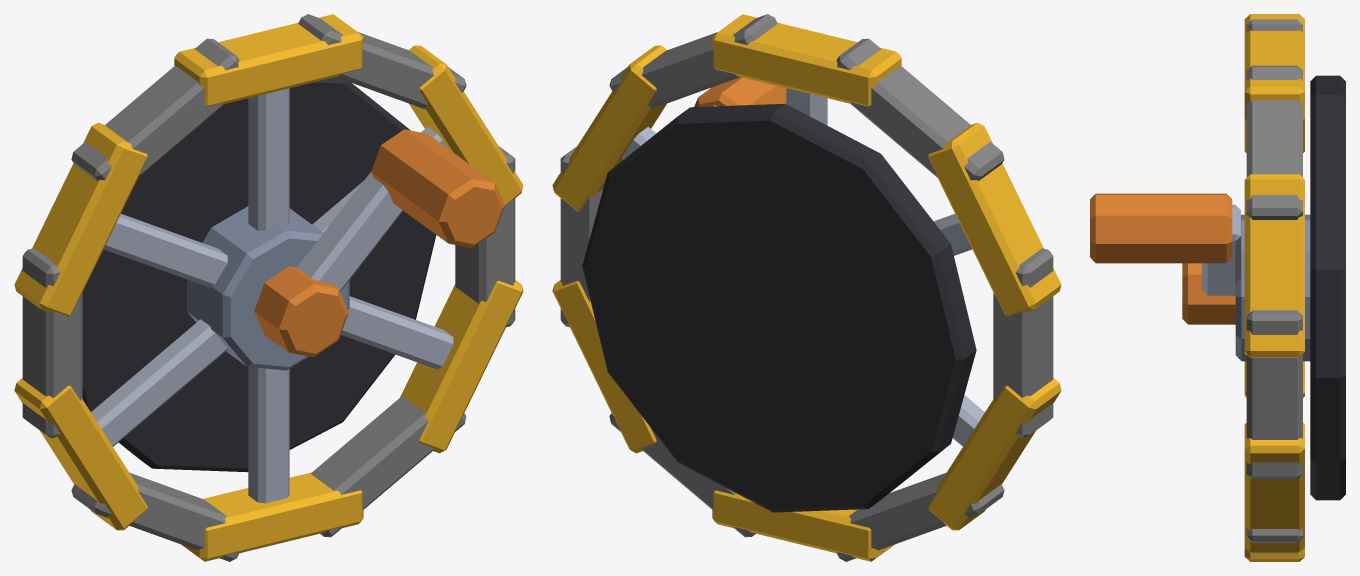
The model's file is crank_wheel.glb.
3 views of the same model, side by side, from view 1: azimuth 30°, elevation 25°; view 2: azimuth 150°, elevation 25°; view 3: azimuth 270°, elevation 25° (orthographic). The views are drawn at different scales.
Visible parts, largest first — view 1: crank_wheel; view 2: crank_wheel; view 3: crank_wheel.
Boxes of the visible parts, left/top/right/bottom form: crank_wheel: left=14, top=14, right=523, bottom=561; crank_wheel: left=552, top=14, right=1061, bottom=561; crank_wheel: left=1090, top=14, right=1345, bottom=561.
Size of the model in its own units: 0.7602 by 0.7602 by 0.36.
